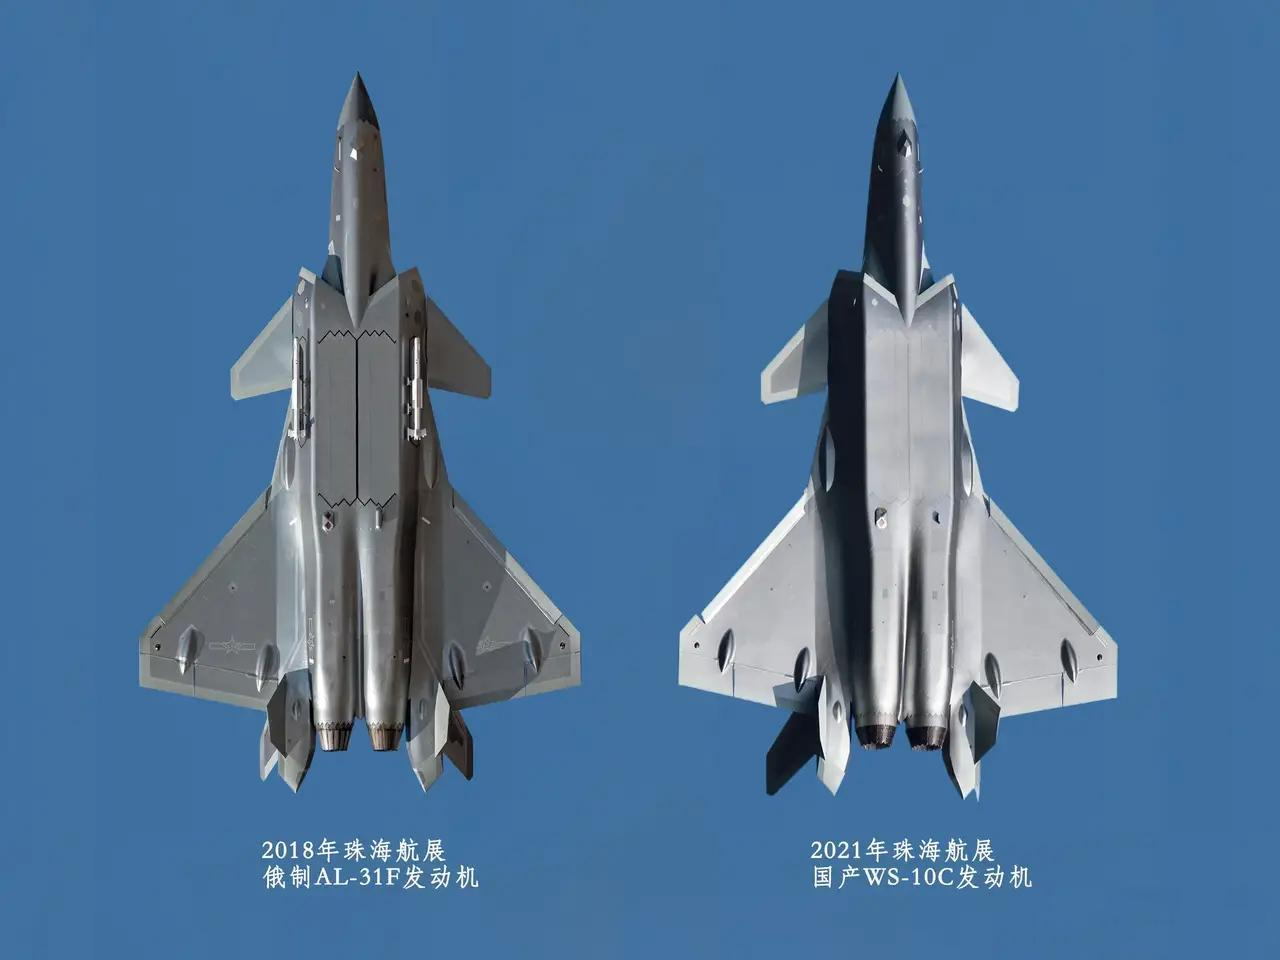J20: (677, 70, 1118, 804), (138, 70, 583, 795)
